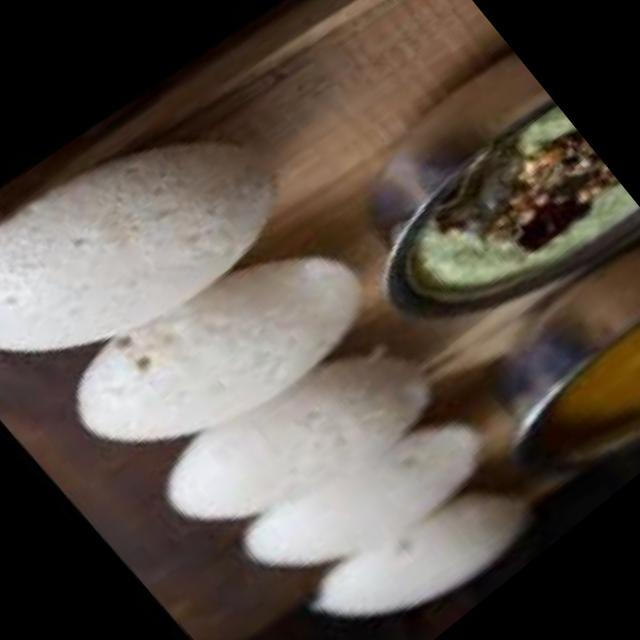idli: (0, 63, 300, 427), (46, 190, 382, 505), (139, 294, 443, 577), (226, 372, 494, 618), (295, 447, 534, 640)
